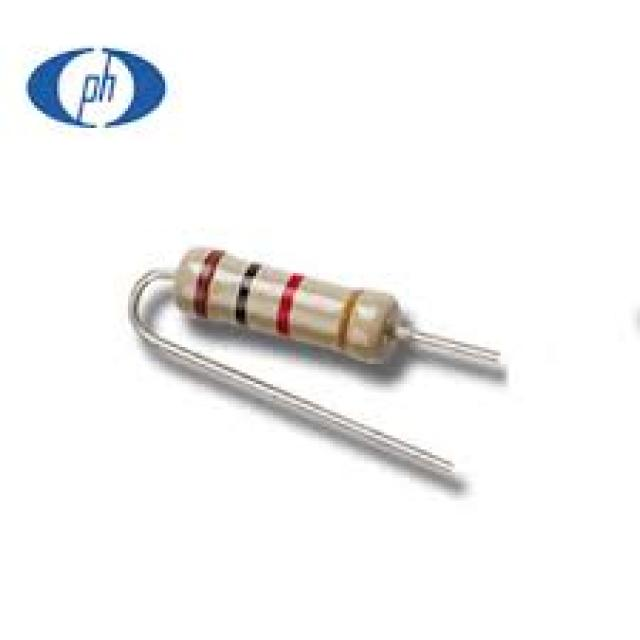Resistor: (166, 216, 426, 425)
